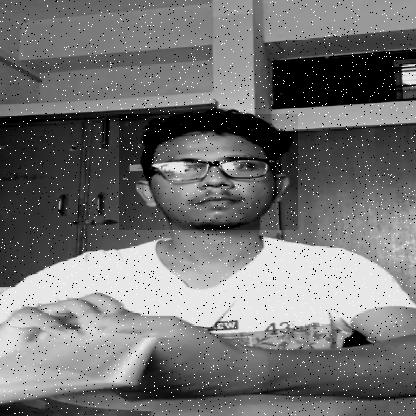Normal: (119, 114, 298, 230)
